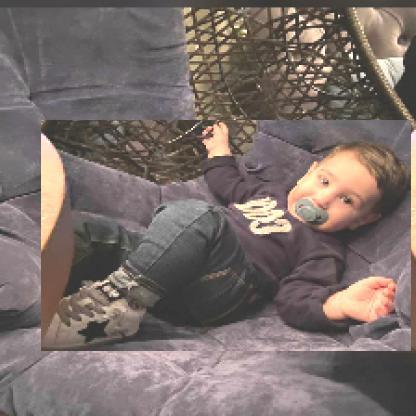child: (42, 121, 413, 353)
